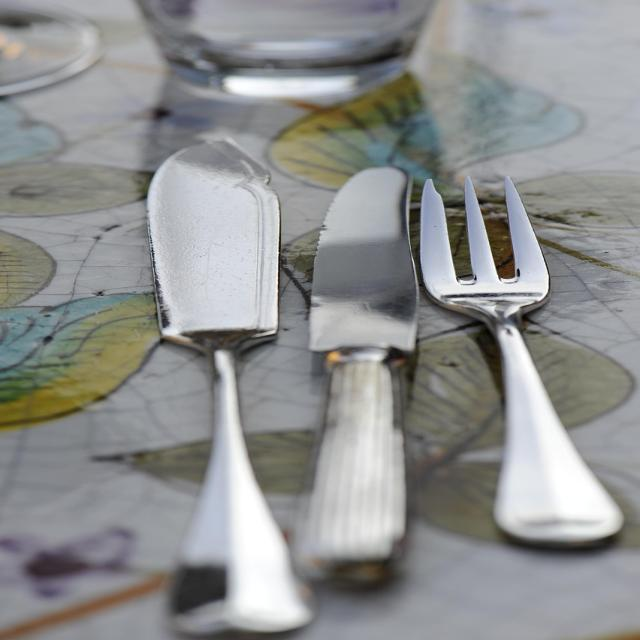Knife: (147, 140, 309, 634), (421, 178, 623, 544), (296, 168, 417, 568)
